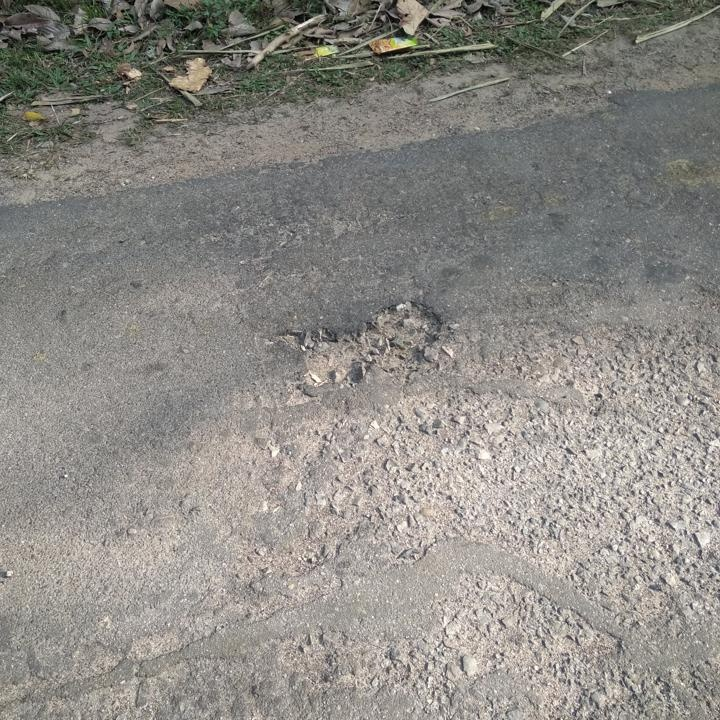pothole: (283, 295, 447, 391)
